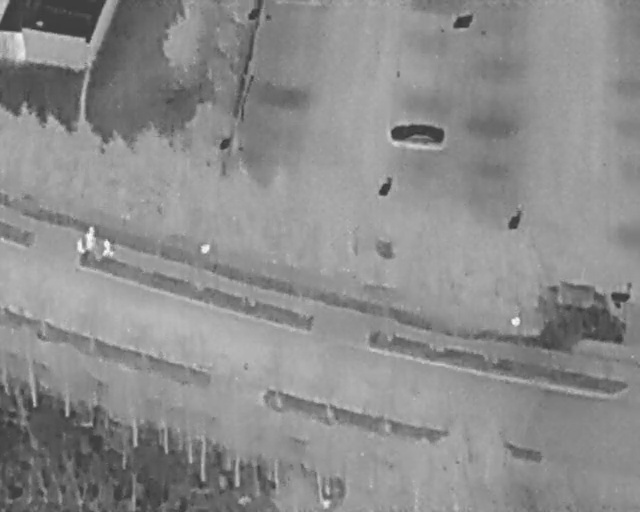Car: (537, 283, 627, 344), (391, 122, 444, 147)
Person: (102, 239, 114, 258), (88, 225, 97, 245), (76, 239, 85, 255), (85, 234, 93, 250)
